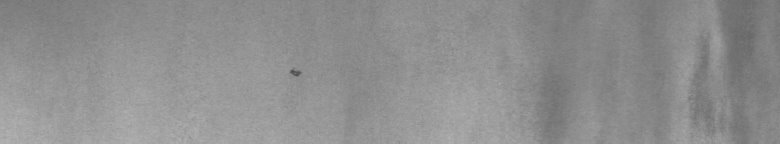fi: (290, 64, 302, 84)
